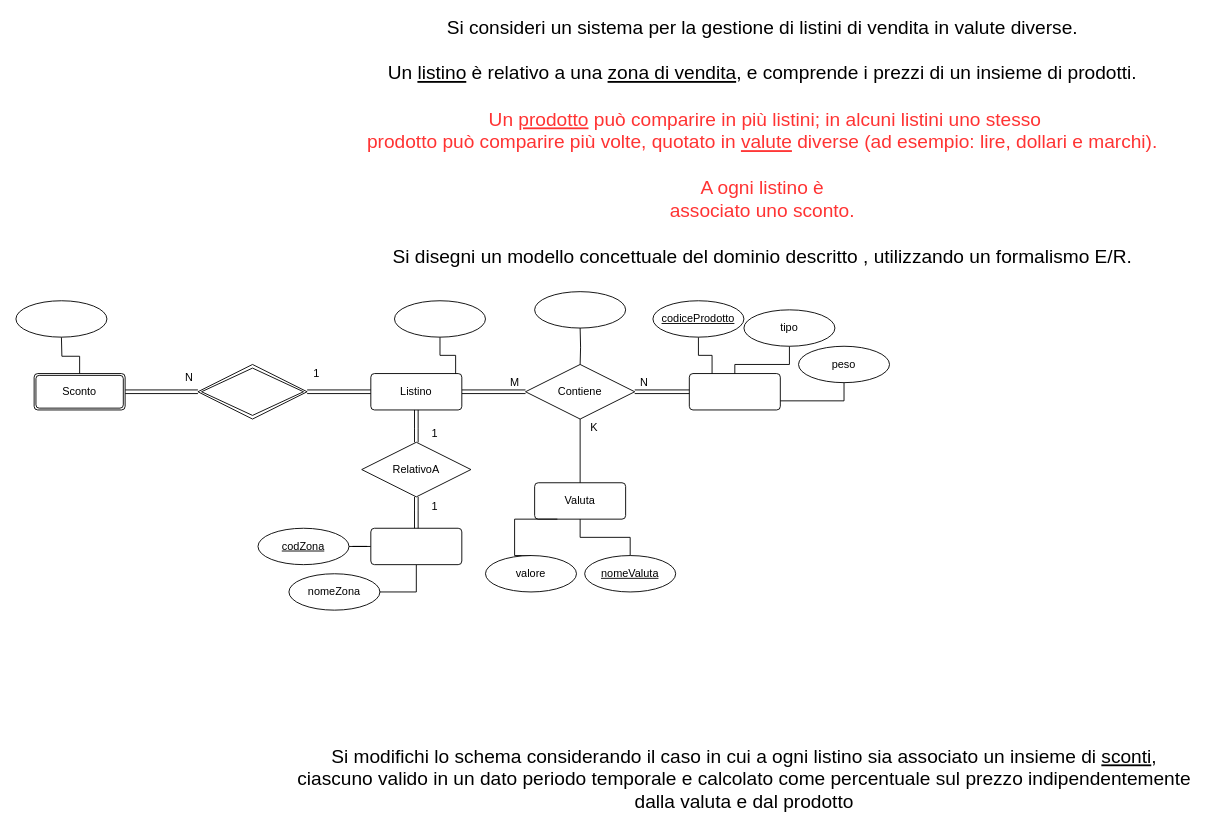
Image size: 1215x829. Some labels were removed from this diagram. The centre of each missing label's shape, as x and y in pixels:
applicato a: the point at 252,391
codiceListino: the point at 439,318
dataSconto: the point at 61,318
prezzo: the point at 580,309
Prodotto: the point at 734,391
Zona: the point at 416,546
